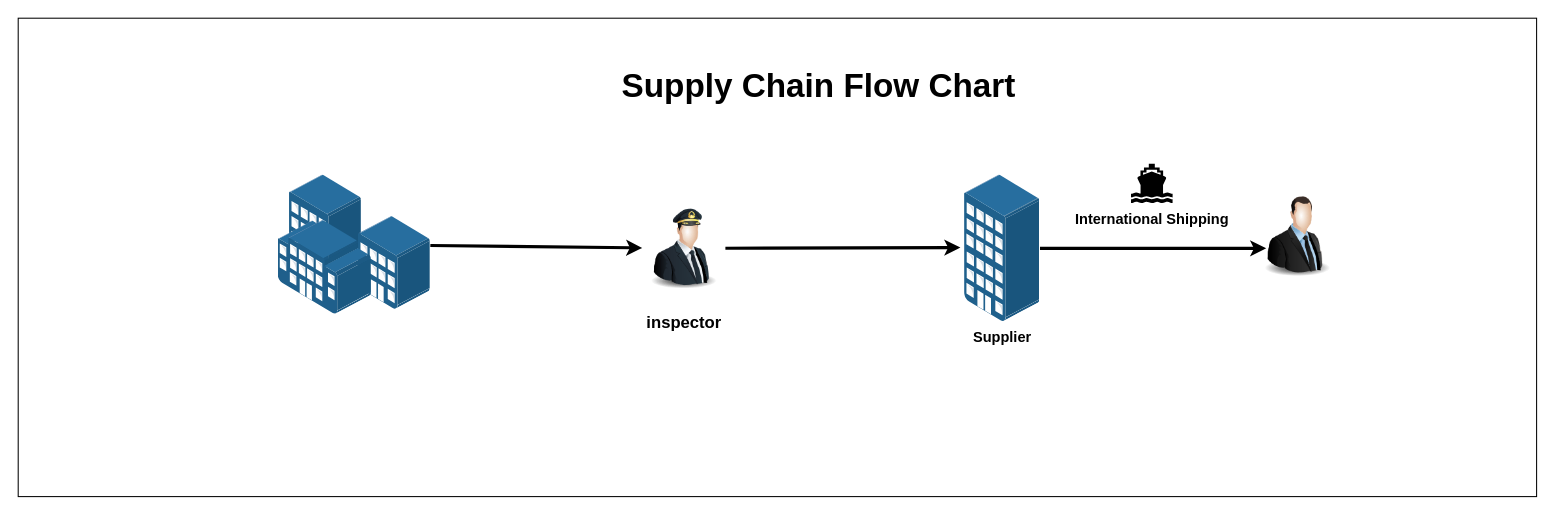
The diagram is 1555 pixels wide and 515 high, and some of its shapes have lost their labels. Each missing label, with the centre of its shape:
Buyer: the point at 1296,235
Manufacturer: the point at 354,244
